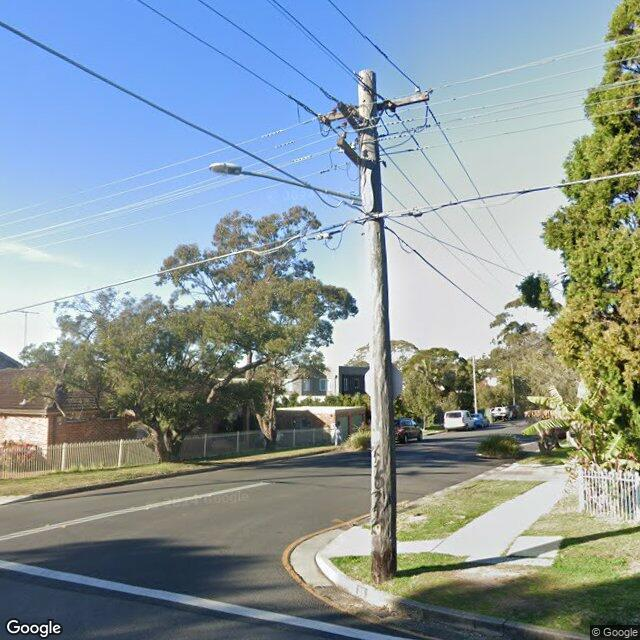crossarm: (319, 92, 430, 125), (337, 101, 361, 136), (336, 137, 359, 170)
streetlight: (208, 160, 362, 206)
timber-pole: (359, 69, 397, 586)
